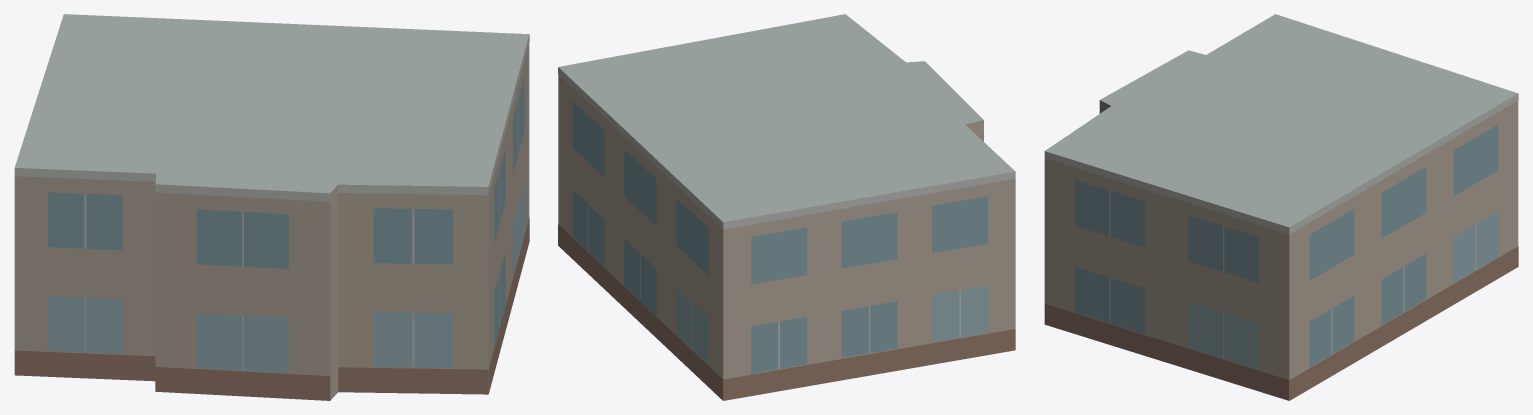
File: survey-upis-32648942.glb
The picture shows the model from 3 angles, left to right: view 1: azimuth 30°, elevation 25°; view 2: azimuth 150°, elevation 25°; view 3: azimuth 270°, elevation 25°; orthographic projection. The views are drawn at different scales.
Parts seen in each view (by area): view 1: survey-upis-32648942.tmp; view 2: survey-upis-32648942.tmp; view 3: survey-upis-32648942.tmp.
Boxes of the visible parts, bbox=[...] form: survey-upis-32648942.tmp: bbox=[14, 14, 529, 400]; survey-upis-32648942.tmp: bbox=[558, 14, 1015, 400]; survey-upis-32648942.tmp: bbox=[1044, 14, 1518, 400].
Bounding box in the file's own units: 16.11 × 6.1 × 15.11.
